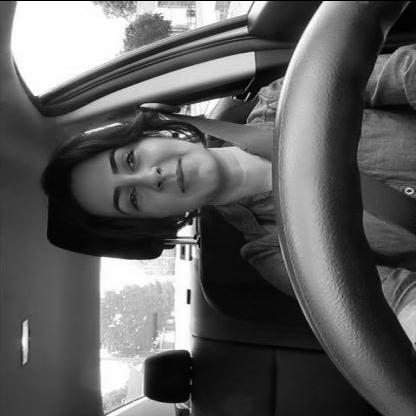seatbelt: (34, 85, 416, 268)
